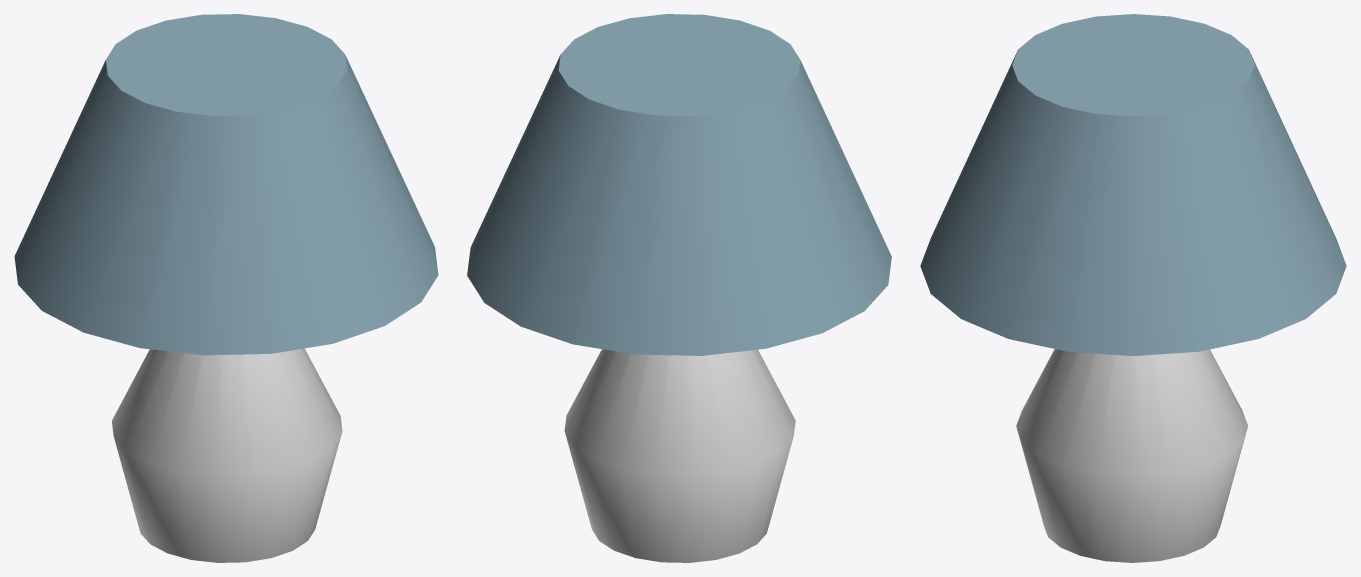
The model's file is Lamp.fbx.
The picture shows the model from 3 angles, left to right: view 1: azimuth 30°, elevation 25°; view 2: azimuth 150°, elevation 25°; view 3: azimuth 270°, elevation 25°; orthographic projection.
Parts seen in each view (by area): view 1: pasted__pCylinder211, pasted__pCylinder212; view 2: pasted__pCylinder211, pasted__pCylinder212; view 3: pasted__pCylinder211, pasted__pCylinder212.
Part boxes in pixels (x1,y1,x2,y2): pasted__pCylinder211: (14,14,438,355); pasted__pCylinder212: (111,348,342,562); pasted__pCylinder211: (467,14,891,355); pasted__pCylinder212: (564,349,795,562); pasted__pCylinder211: (920,14,1346,355); pasted__pCylinder212: (1016,349,1247,562).
Size of the model in its own units: 2.4 by 2.85 by 2.4.
2 materials, 2 textured.
